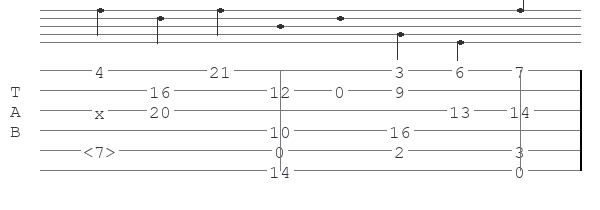0: (274, 143, 289, 158), (334, 83, 349, 98), (514, 163, 529, 178)
10: (269, 123, 295, 138)
12: (269, 83, 295, 98)
13: (449, 103, 475, 118)
14: (269, 163, 295, 178), (509, 103, 535, 118)
16: (149, 83, 175, 98), (389, 123, 415, 138)
2: (394, 143, 409, 158)
20: (149, 103, 175, 118)
21: (209, 63, 235, 78)
3: (394, 63, 409, 78), (514, 143, 529, 158)
4: (94, 63, 109, 78)
6: (454, 63, 469, 78)
7: (514, 63, 529, 78)
9: (394, 83, 409, 98)
harmonic: (83, 143, 120, 158)
x: (94, 104, 109, 116)
